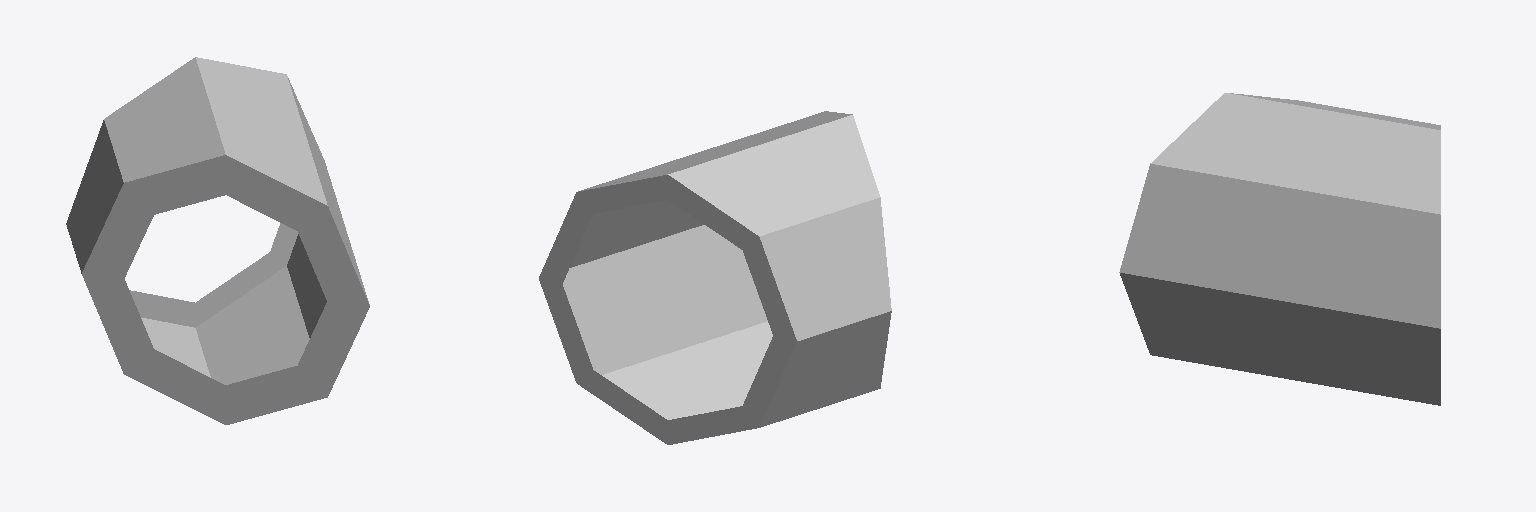
Rendered from pipeCornerDiagonal.obj.
3 views of the same model, side by side, from view 1: azimuth 30°, elevation 25°; view 2: azimuth 150°, elevation 25°; view 3: azimuth 270°, elevation 25° (orthographic).
Parts seen in each view (by area): view 1: pipeCornerDiagonal; view 2: pipeCornerDiagonal; view 3: pipeCornerDiagonal.
Boxes of the visible parts, x1,y1,x2,y2 form: pipeCornerDiagonal: [66, 57, 369, 424]; pipeCornerDiagonal: [539, 111, 891, 444]; pipeCornerDiagonal: [1119, 93, 1440, 405].
Size of the model in its own units: 5.64 by 4.9 by 5.27.